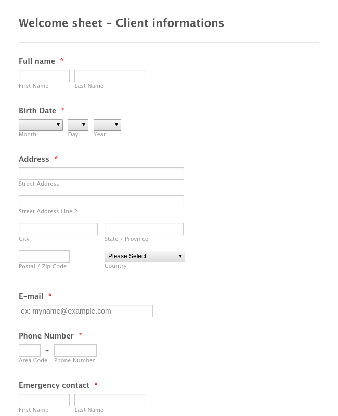textbox: (15, 193, 186, 210), (17, 164, 187, 181), (103, 219, 187, 239), (16, 219, 99, 238), (72, 389, 150, 409), (73, 68, 149, 86), (15, 391, 72, 409), (16, 249, 73, 265), (15, 67, 71, 83), (50, 342, 101, 359), (16, 343, 42, 359)
